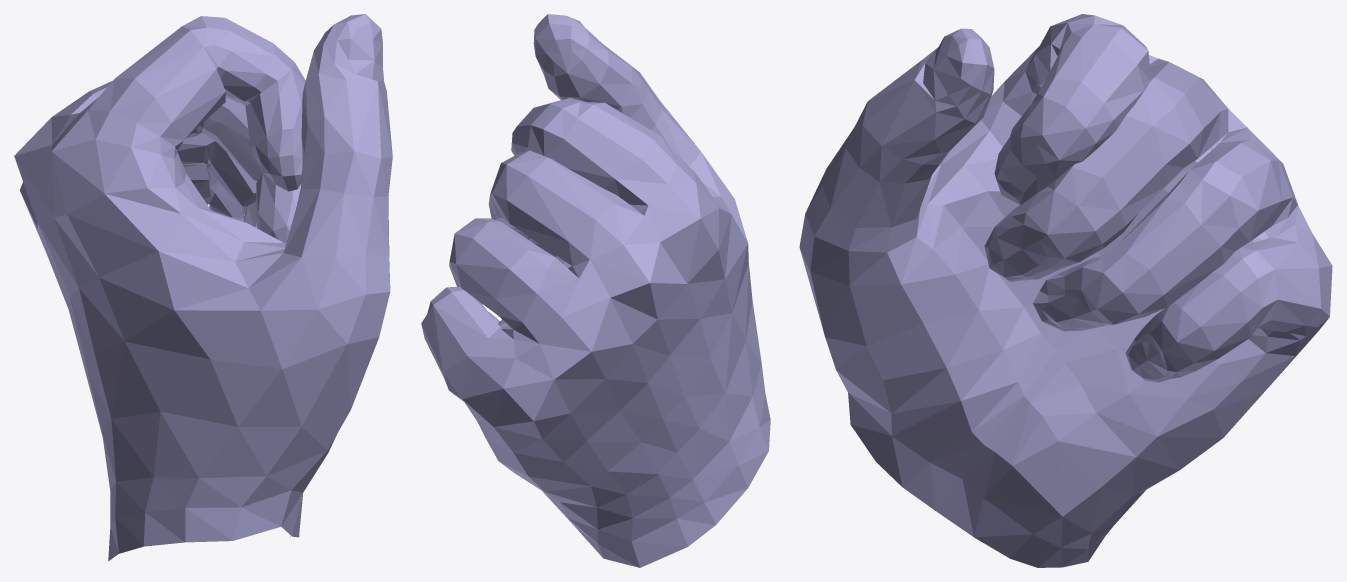
The model's file is frame_0020_source_000020_hand.glb.
3 views of the same model, side by side, from view 1: azimuth 30°, elevation 25°; view 2: azimuth 150°, elevation 25°; view 3: azimuth 270°, elevation 25° (orthographic). The views are drawn at different scales.
Visible parts, largest first — view 1: world; view 2: world; view 3: world.
Boxes of the visible parts, x1,y1,x2,y2 form: world: (14,14,392,561); world: (421,14,770,567); world: (799,14,1332,567).
Bounding box in the file's own units: 0.0599 × 0.1212 × 0.1001.
